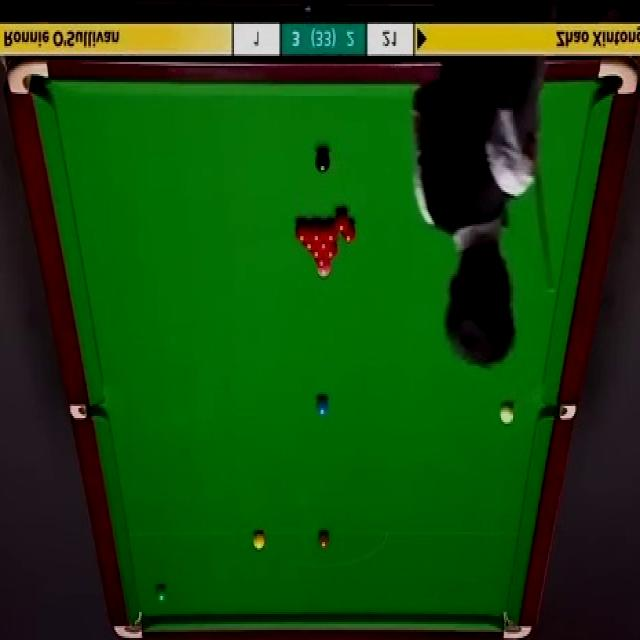black-ball: (315, 146, 330, 173)
blue-ball: (314, 394, 329, 417)
brown-ball: (317, 530, 330, 552)
green-ball: (154, 584, 168, 603)
pink-ball: (317, 264, 331, 280)
red-ball: (342, 219, 357, 245), (334, 210, 350, 234), (323, 219, 338, 243), (295, 219, 308, 242), (309, 220, 322, 243), (324, 244, 339, 260), (309, 250, 325, 261), (316, 242, 333, 252), (315, 258, 331, 267), (302, 243, 316, 253)
white-ball: (498, 399, 515, 426)
yellow-ball: (252, 530, 266, 552)
